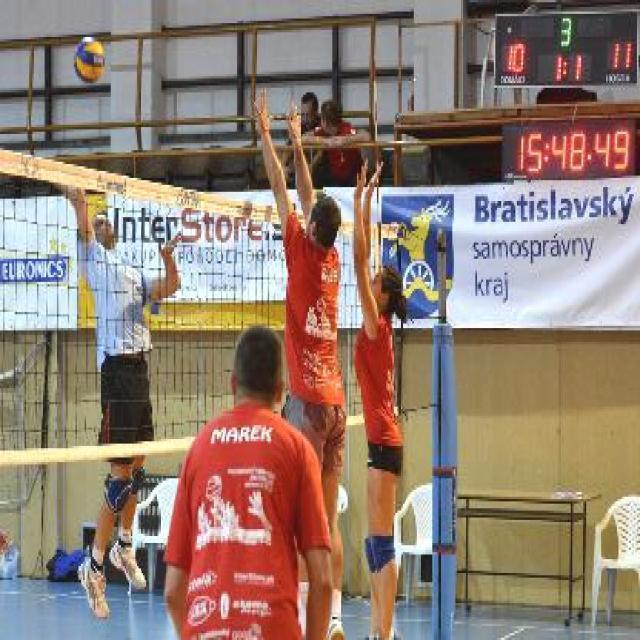volleyball: (73, 36, 104, 83)
